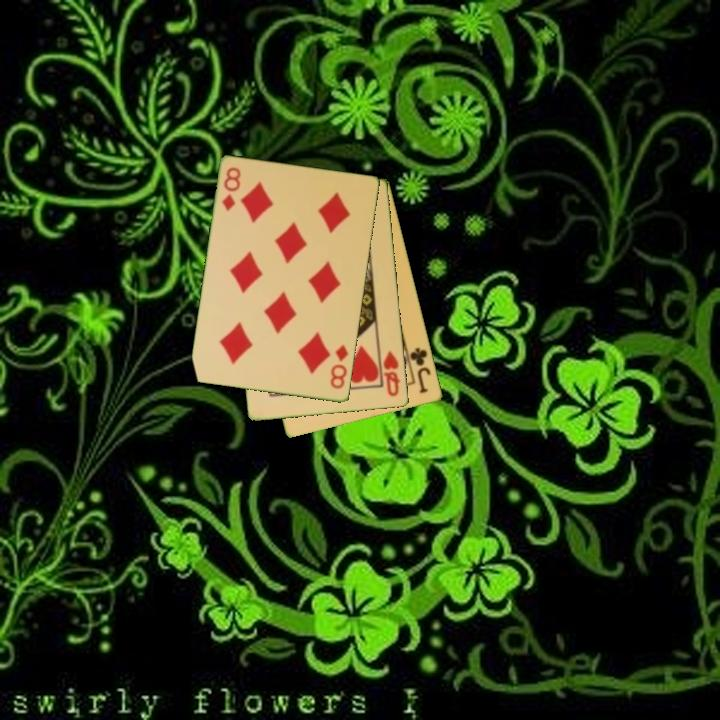8d: (327, 341, 352, 392), (219, 164, 244, 214)
Jc: (404, 344, 434, 396)
Qh: (380, 347, 403, 399)
